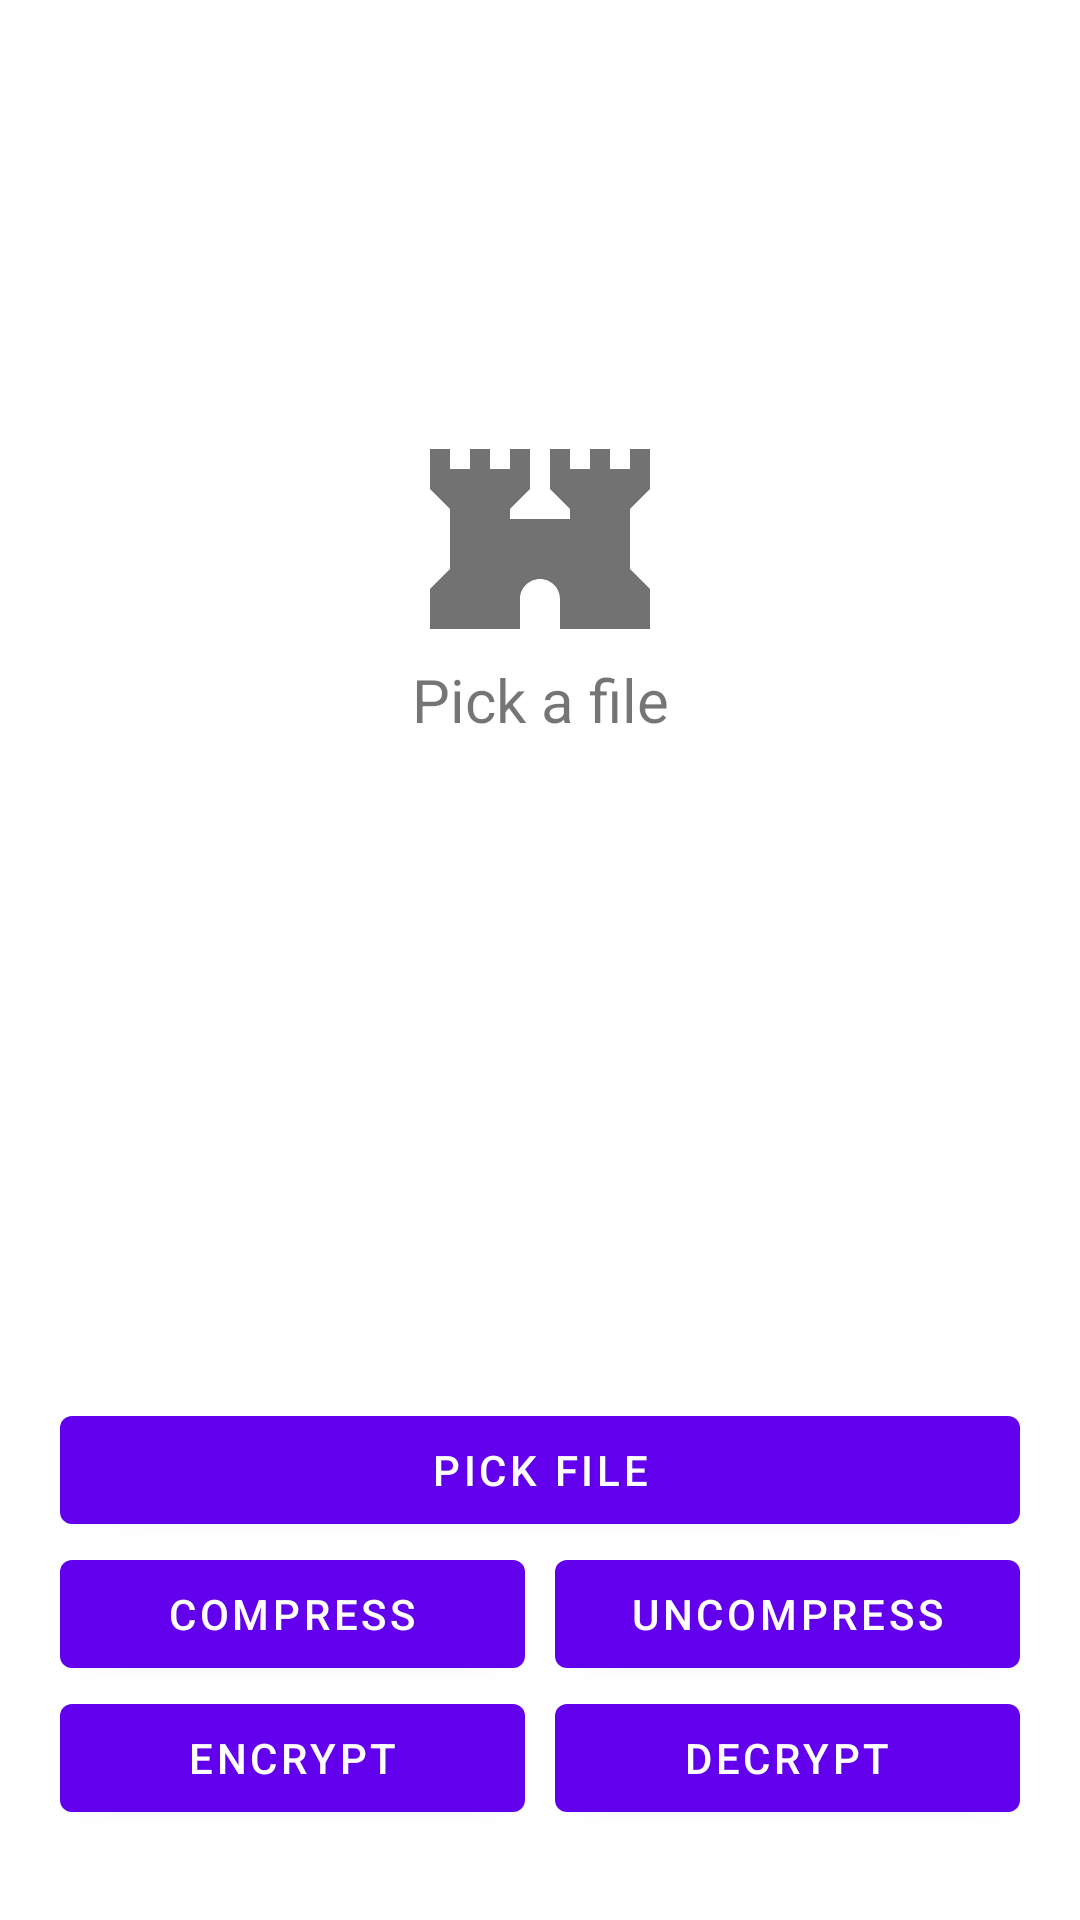

Where to tap for icons on this 1080*1920 app screen, as (x=x, y=y):
fort: (x=540, y=539)
